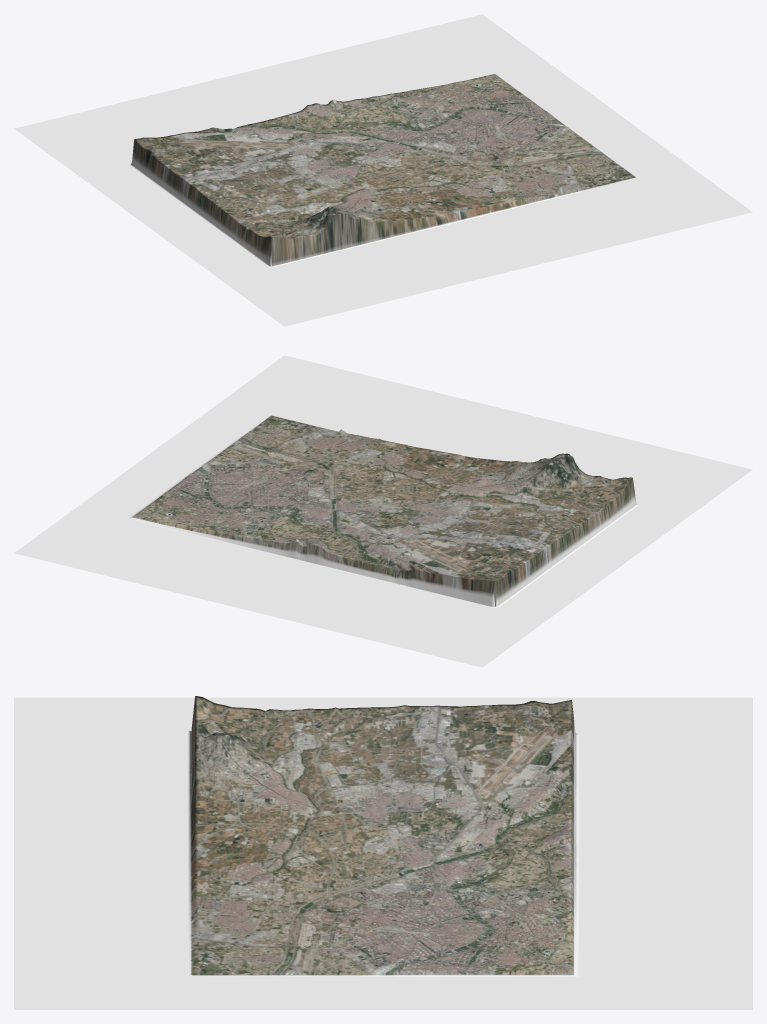
File: terrain.glb
3 views of the same model, one above another, from view 1: azimuth 30°, elevation 25°; view 2: azimuth 150°, elevation 25°; view 3: azimuth 270°, elevation 25° (orthographic). The views are drawn at different scales.
Visible parts, largest first — view 1: MDT02-ETRS89-HU30-0722-1-COB2; view 2: MDT02-ETRS89-HU30-0722-1-COB2; view 3: MDT02-ETRS89-HU30-0722-1-COB2.
Part boxes in pixels (left/top/right/bottom): MDT02-ETRS89-HU30-0722-1-COB2: left=14, top=14, right=752, bottom=326; MDT02-ETRS89-HU30-0722-1-COB2: left=14, top=355, right=752, bottom=667; MDT02-ETRS89-HU30-0722-1-COB2: left=14, top=696, right=752, bottom=1009.
Size of the model in its own units: 18948 by 1372 by 18948.
1 material, 1 textured.
